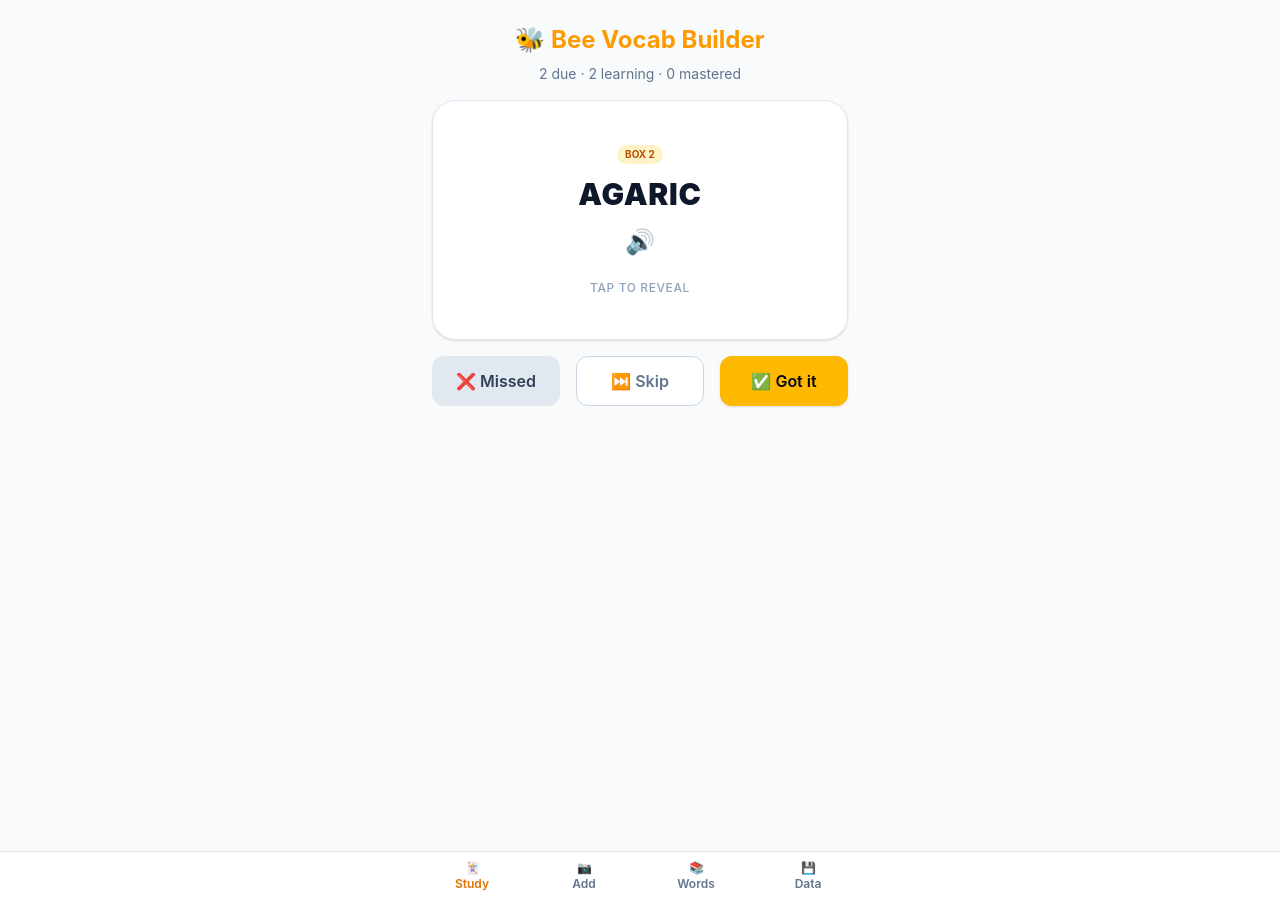
Test: "Skip" resets the card to its front, unflipped
Click the heading "AGARIC" at (640, 194), box top-left (578, 176), bottom-right (702, 212)
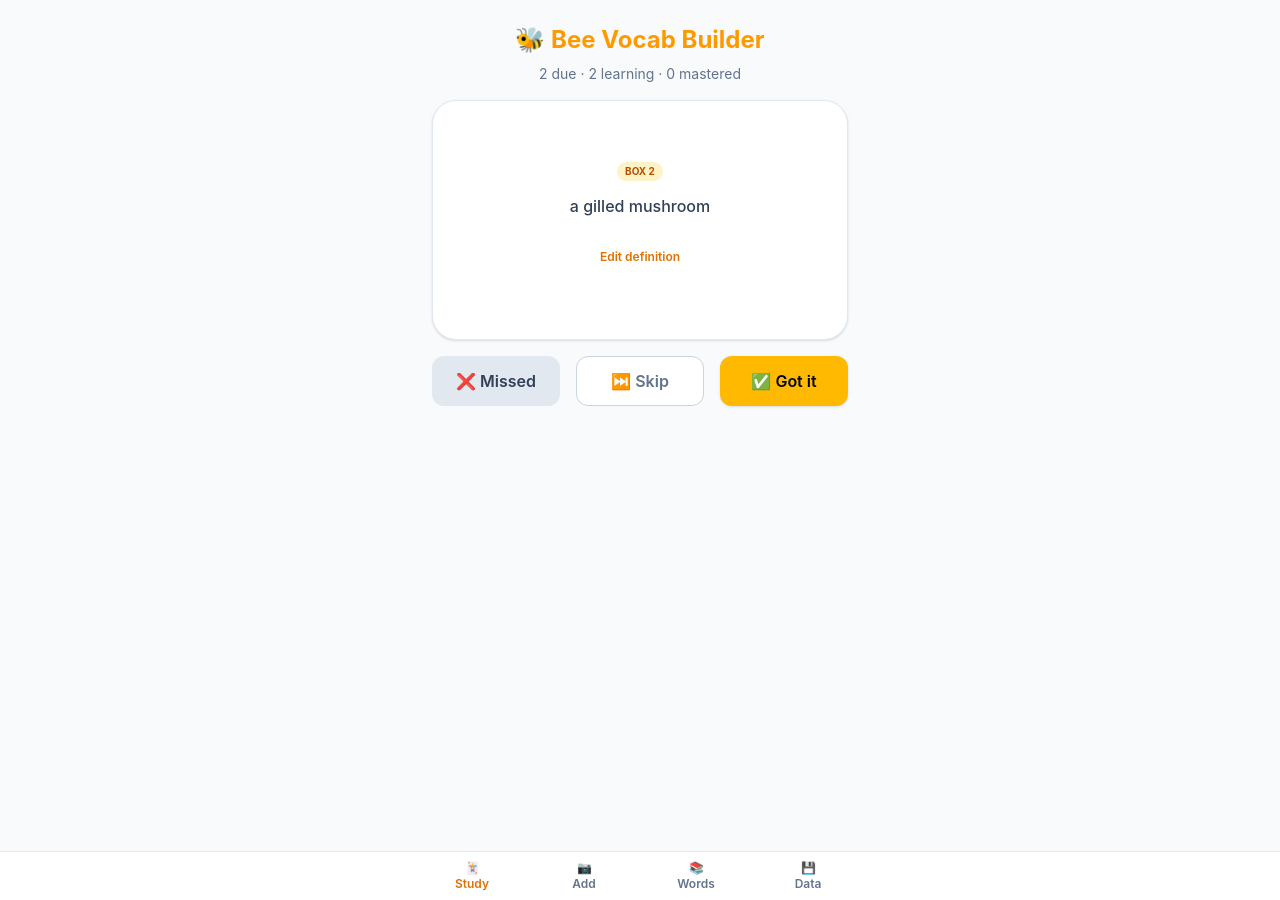
Click the button "⏭️ Skip" at (640, 381), box top-left (576, 356), bottom-right (704, 406)
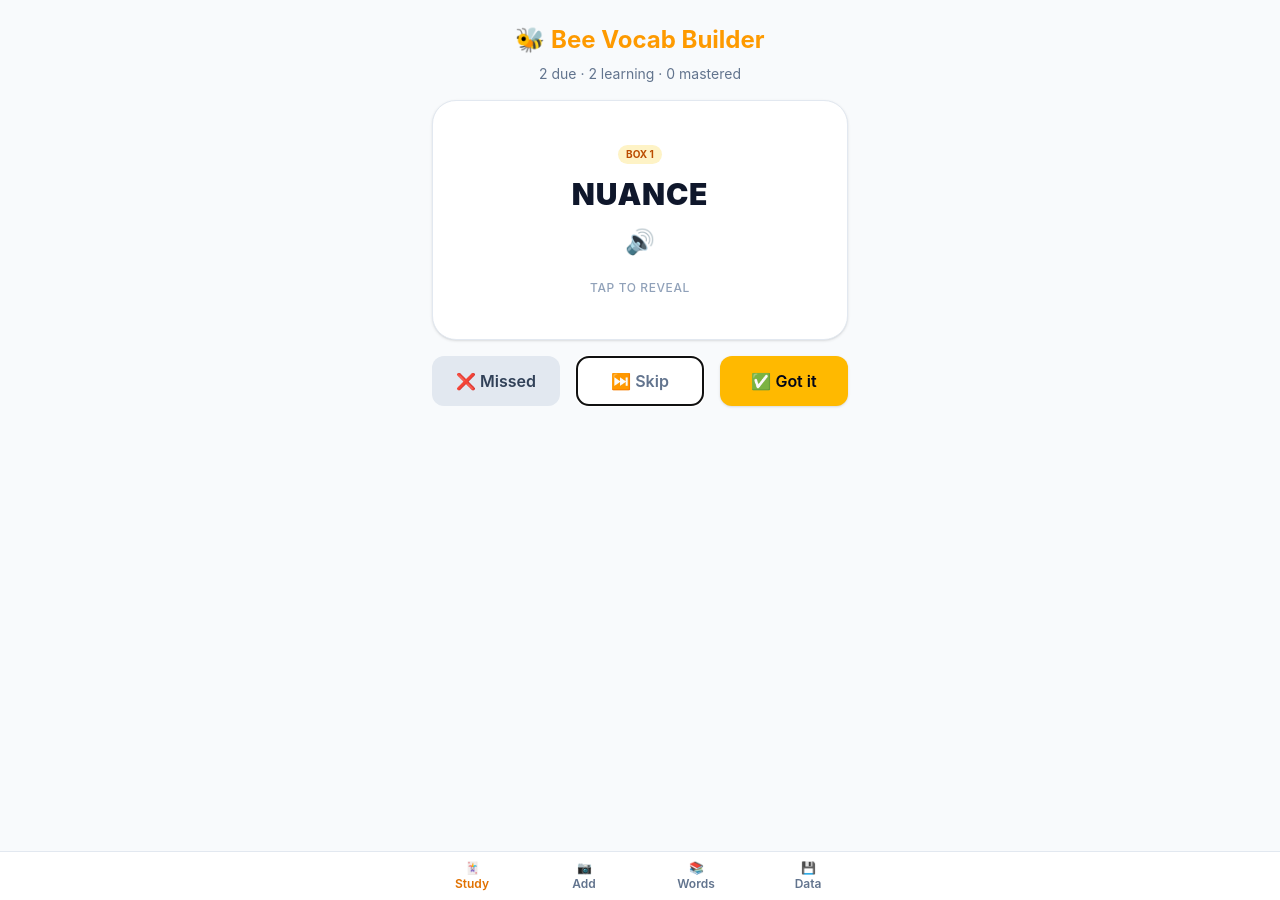
Now the text "Tap to reveal" is shown, box top-left (590, 280), bottom-right (690, 296)
